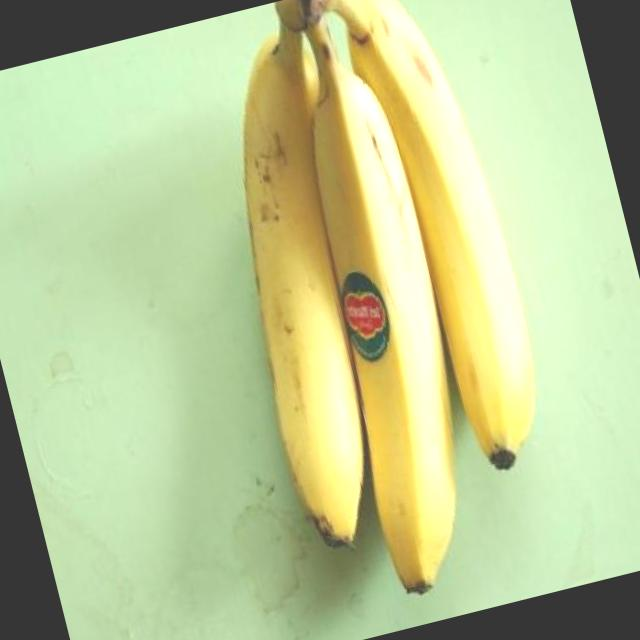Banana: (172, 0, 585, 620)
